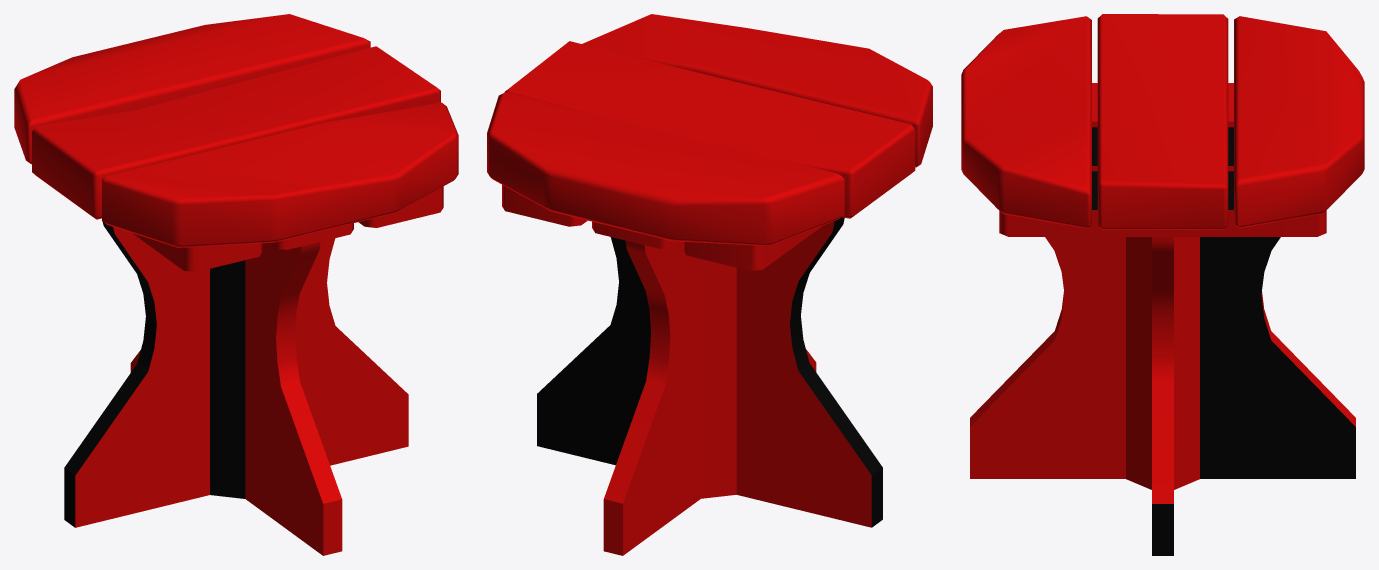
File: Stool_2.fbx
The picture shows the model from 3 angles, left to right: view 1: azimuth 30°, elevation 25°; view 2: azimuth 150°, elevation 25°; view 3: azimuth 270°, elevation 25°; orthographic projection.
Visible parts, largest first — view 1: Stool_2; view 2: Stool_2; view 3: Stool_2.
Boxes of the visible parts, <box> form: Stool_2: <box>14,14,458,555</box>; Stool_2: <box>487,14,932,555</box>; Stool_2: <box>961,14,1364,555</box>.
Bounding box in the file's own units: 47.83 × 47.83 × 49.38.
